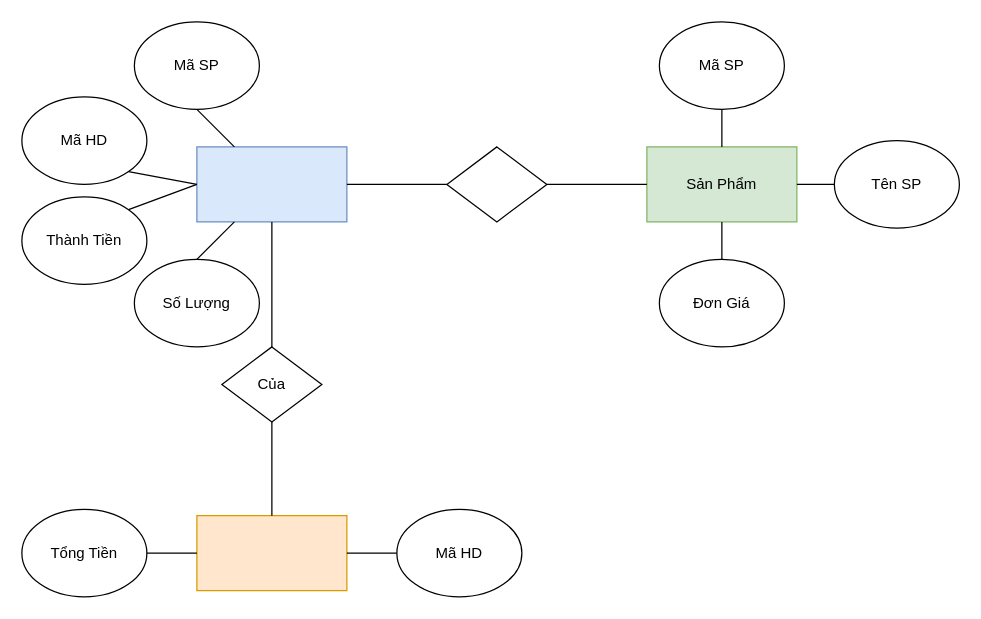
Some shapes in this 981 by 619 pixel diagram are drawn without their labels. The box of each missing label's shape, as (x1, y1, x2, y2) in pixels:
Chi Tiết Hóa Đơn: (196, 146, 347, 222)
Gồm: (446, 146, 547, 222)
Hóa Đơn: (196, 514, 347, 591)
